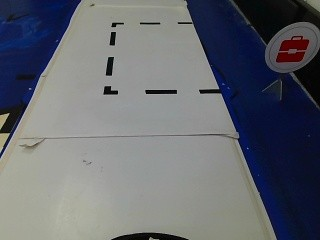company: (264, 24, 318, 75)
